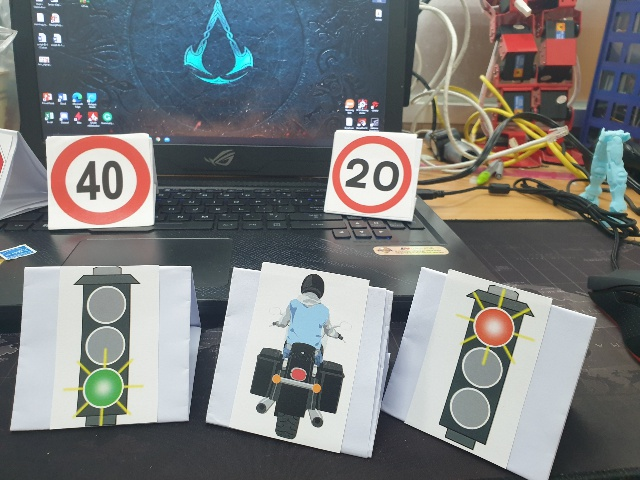Green Light: (61, 265, 148, 422)
Limit 20: (331, 136, 409, 215)
Limit 40: (51, 138, 152, 221)
Motorcycle: (255, 271, 346, 444)
Red Light: (438, 283, 533, 453)
